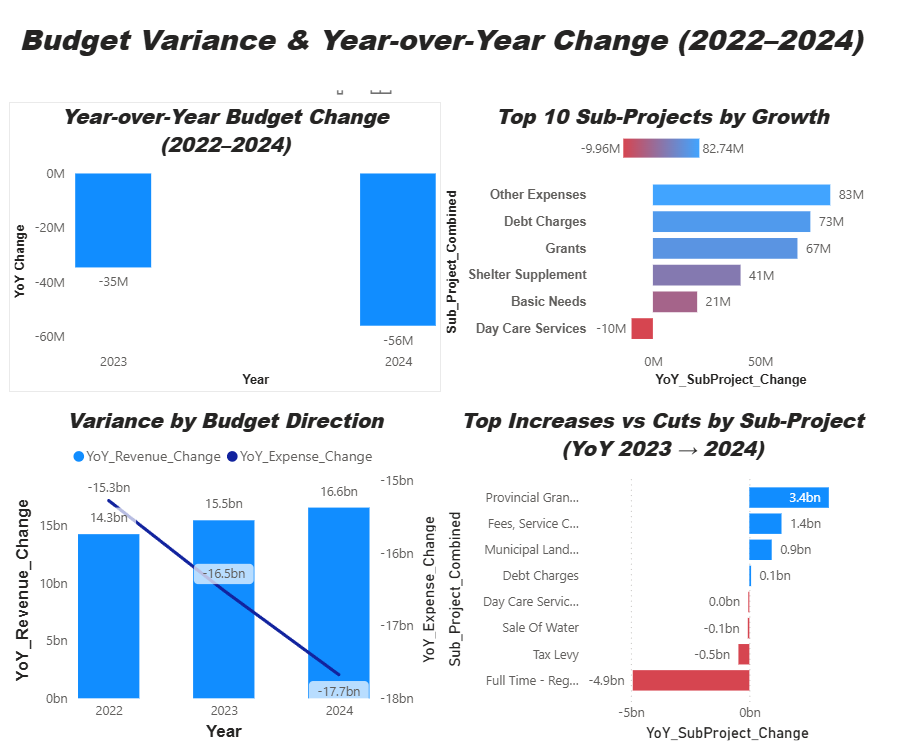

Layout of this report page (visuals, bound fields, positions):
{"tool":"powerbi","page":{"name":"YOY Change","canvas":[1280,720],"ordinal":2},"visuals":[{"type":"columnChart","title":"Year-over-Year Budget Change (2022–2024)","fields":{"Category":["Combined_Budget_Table.Year"],"Y":["Combined_Budget_Table.YoY_Change"]},"box":[210.2,110.8,409,274.1],"z":0},{"type":"lineClusteredColumnComboChart","title":"Variance by Budget Direction","fields":{"Y":["Combined_Budget_Table.YoY_Revenue_Change"],"Y2":["Combined_Budget_Table.YoY_Expense_Change"],"Category":["Combined_Budget_Table.Year"]},"box":[210.2,399.1,409,320.9],"z":1000},{"type":"barChart","title":"Top Increases vs Cuts by Sub-Project (YoY 2023 → 2024)","fields":{"Category":["Combined_Budget_Table.Sub_Project_Combined"],"Y":["Combined_Budget_Table.YoY_SubProject_Change"]},"box":[619.2,399.1,418.9,320.9],"z":2000},{"type":"textbox","box":[180.4,27,877.6,72.4],"z":3000},{"type":"clusteredBarChart","title":"Top 10 Sub-Projects by Growth","fields":{"Y":["Combined_Budget_Table.YoY_SubProject_Change"],"Category":["Combined_Budget_Table.Sub_Project_Combined"]},"box":[619.2,110.8,418.9,274.1],"z":4000}]}

Visuals, with their boxes on the page's 1280x720 design canvas (x1, y1, x2, y2). These are canvas units, not pixel positions in the 898x741 screenshot, which may show the page scaled, cropped or inside an application window:
"Year-over-Year Budget Change (2022–2024)" columnChart: 210,111,619,385
"Variance by Budget Direction" lineClusteredColumnComboChart: 210,399,619,720
"Top Increases vs Cuts by Sub-Project (YoY 2023 → 2024)" barChart: 619,399,1038,720
textbox: 180,27,1058,99
"Top 10 Sub-Projects by Growth" clusteredBarChart: 619,111,1038,385
